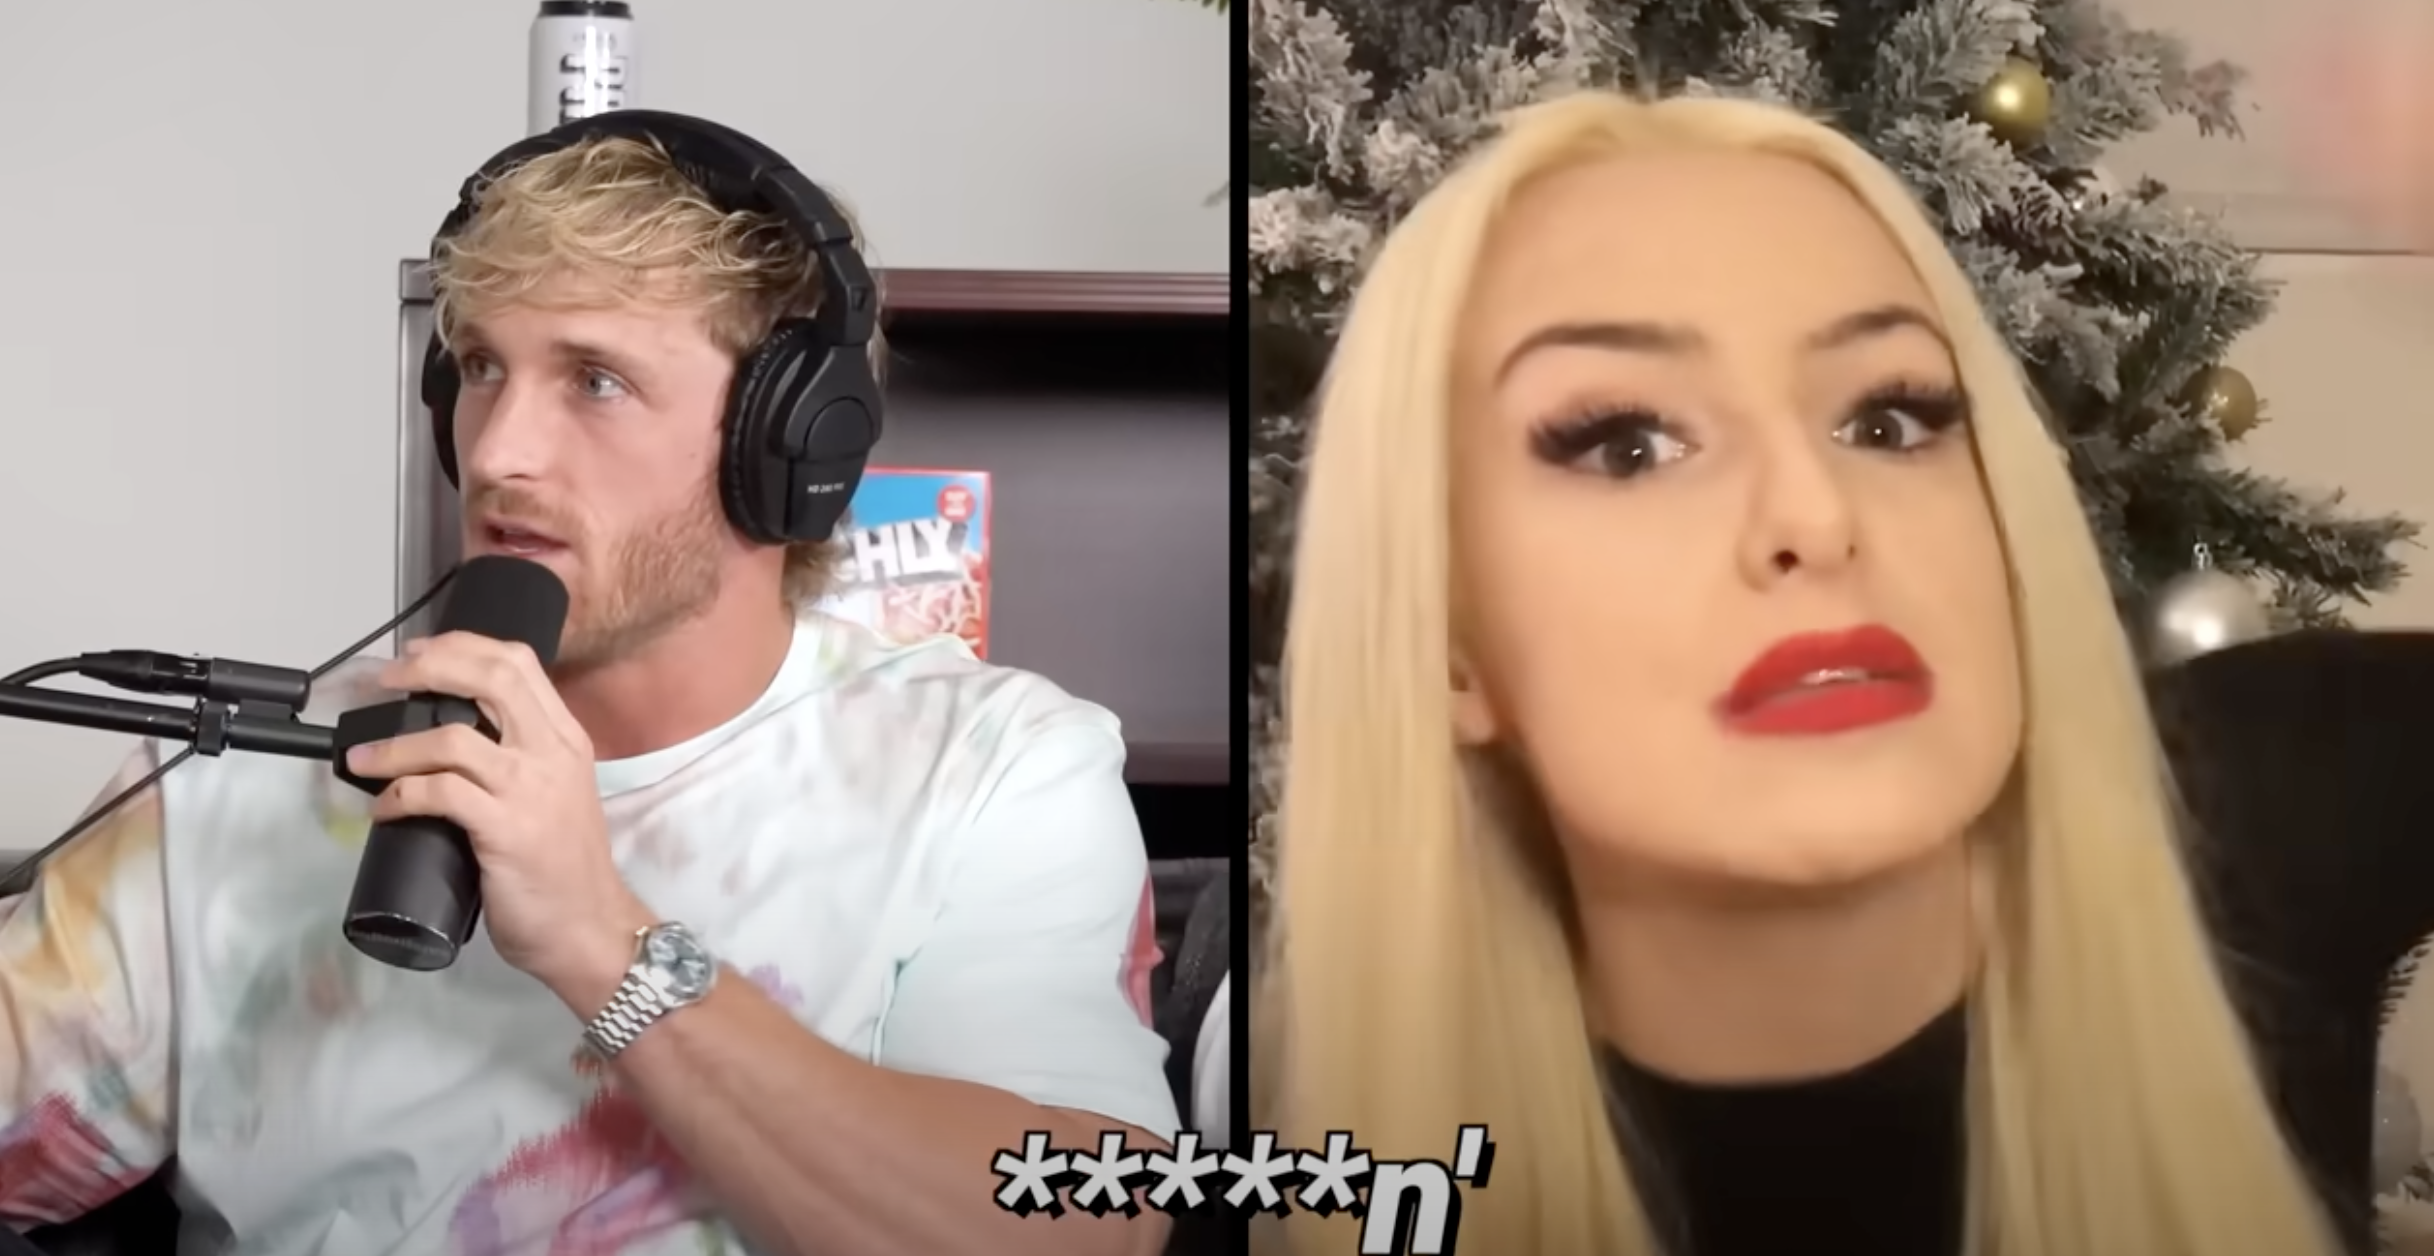person: (2, 106, 1189, 1252), (1240, 87, 2348, 1251)
